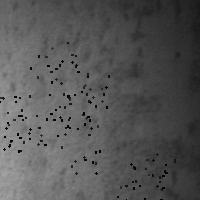pitted_surface: (18, 25, 144, 162), (50, 60, 108, 119), (30, 42, 88, 100), (40, 116, 99, 172), (117, 153, 174, 200), (0, 95, 40, 150)
